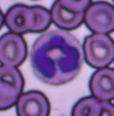N: (30, 31, 83, 84)
